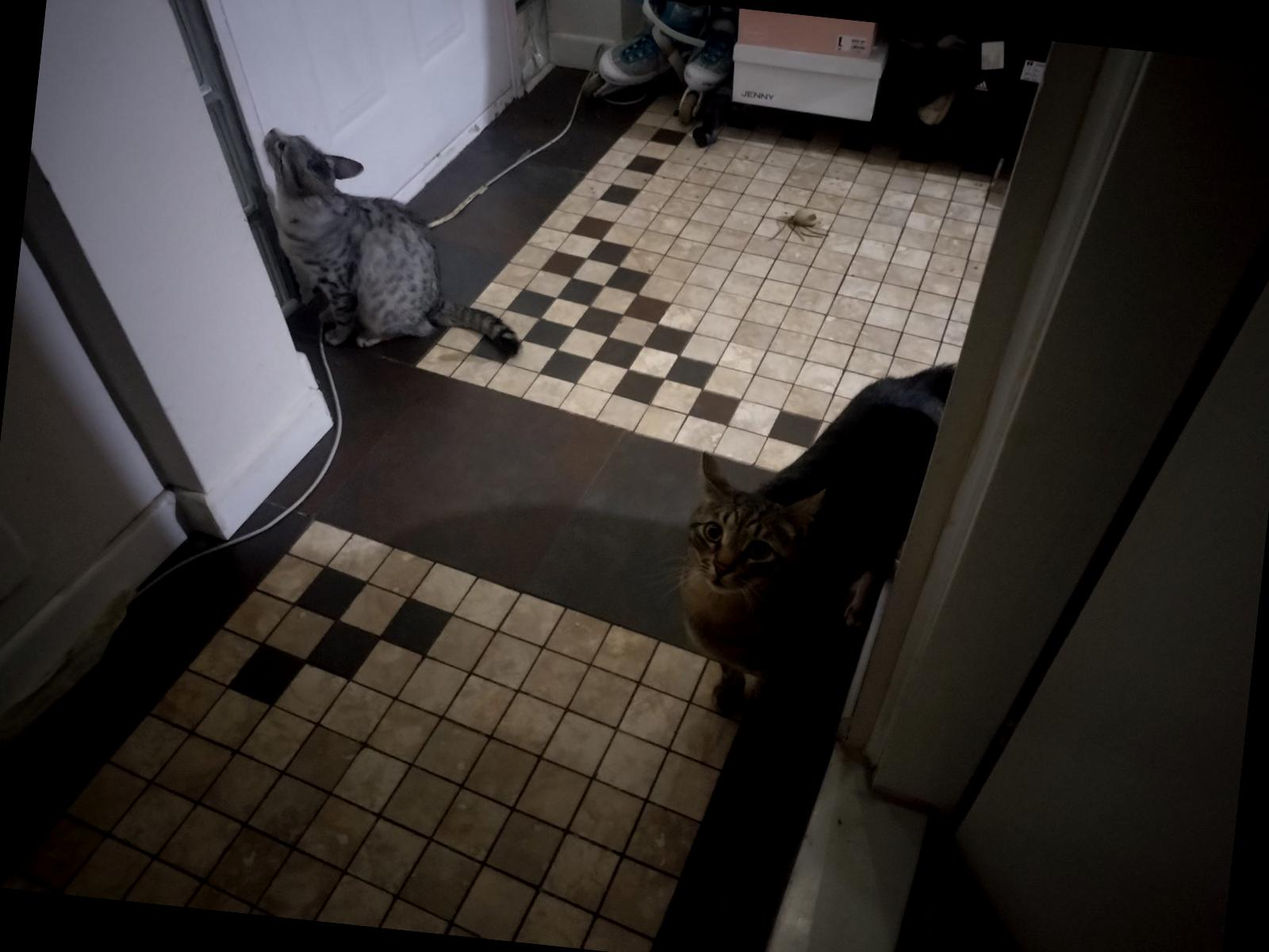macka: (664, 337, 963, 738), (242, 127, 544, 363)
